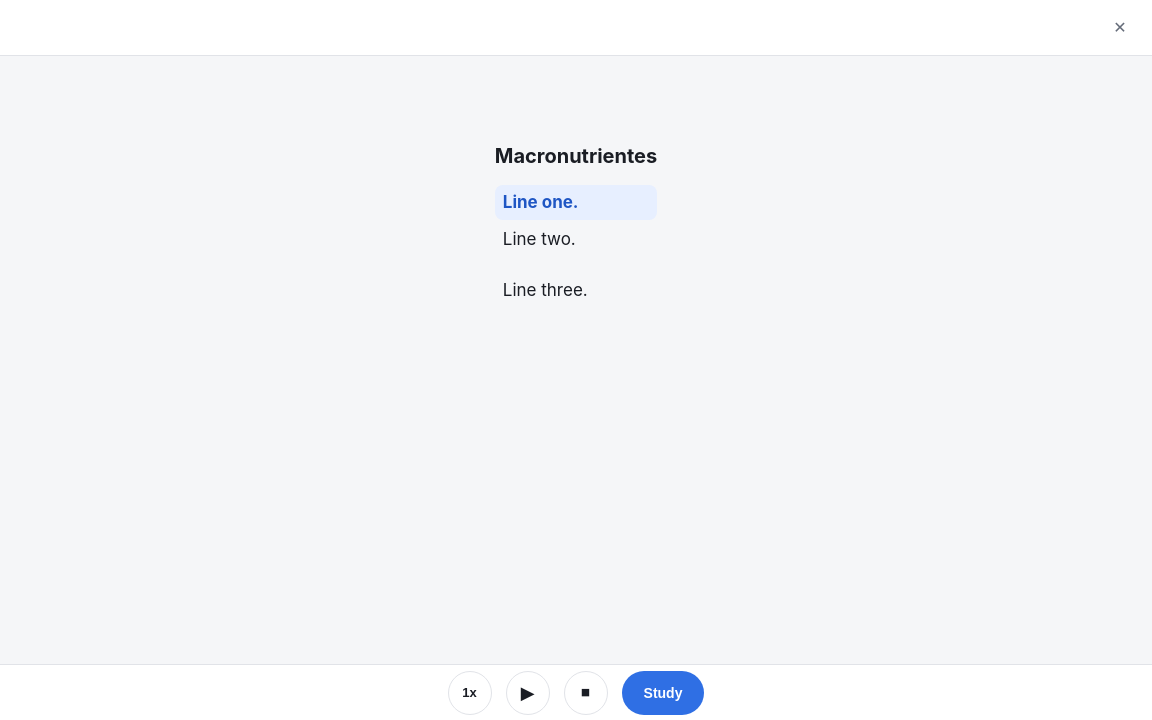
LearningTopicPage › Study opens the modal for the currently highlighted line and pauses playback
Click the button with class "reader-line" showing "Line two." at point(576, 240), box [495,222,657,257]
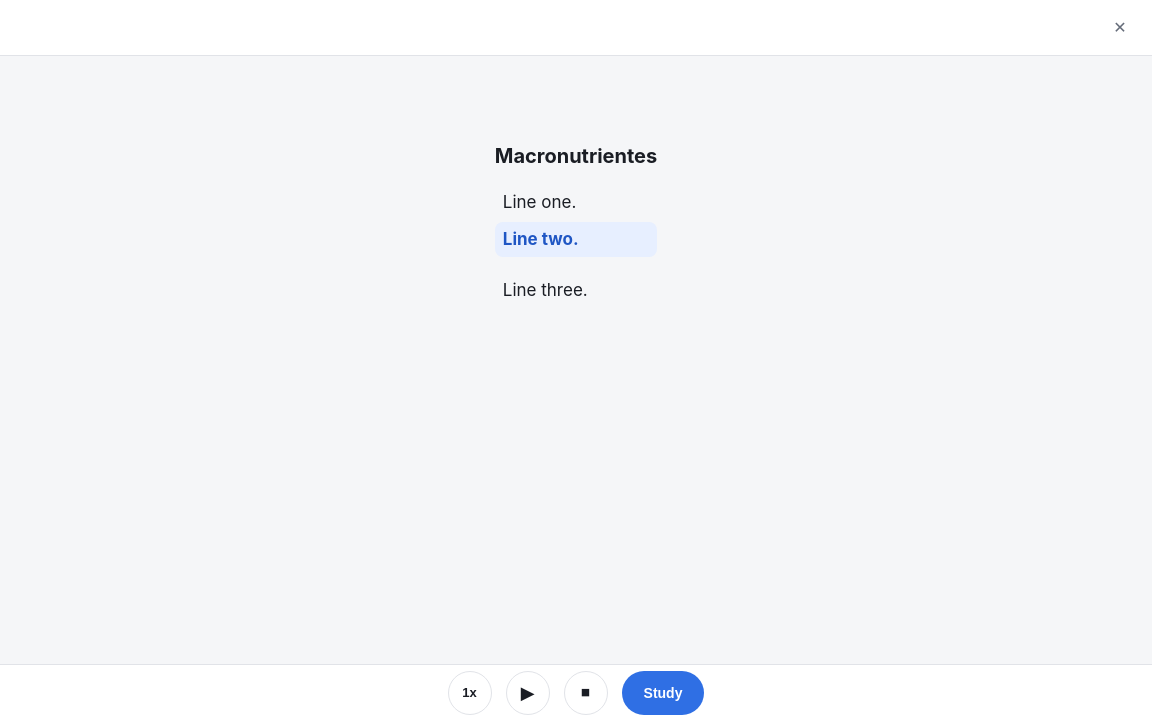
Click the button with class "reader-control-btn" showing "▶" at point(528, 692), box [506,670,550,714]
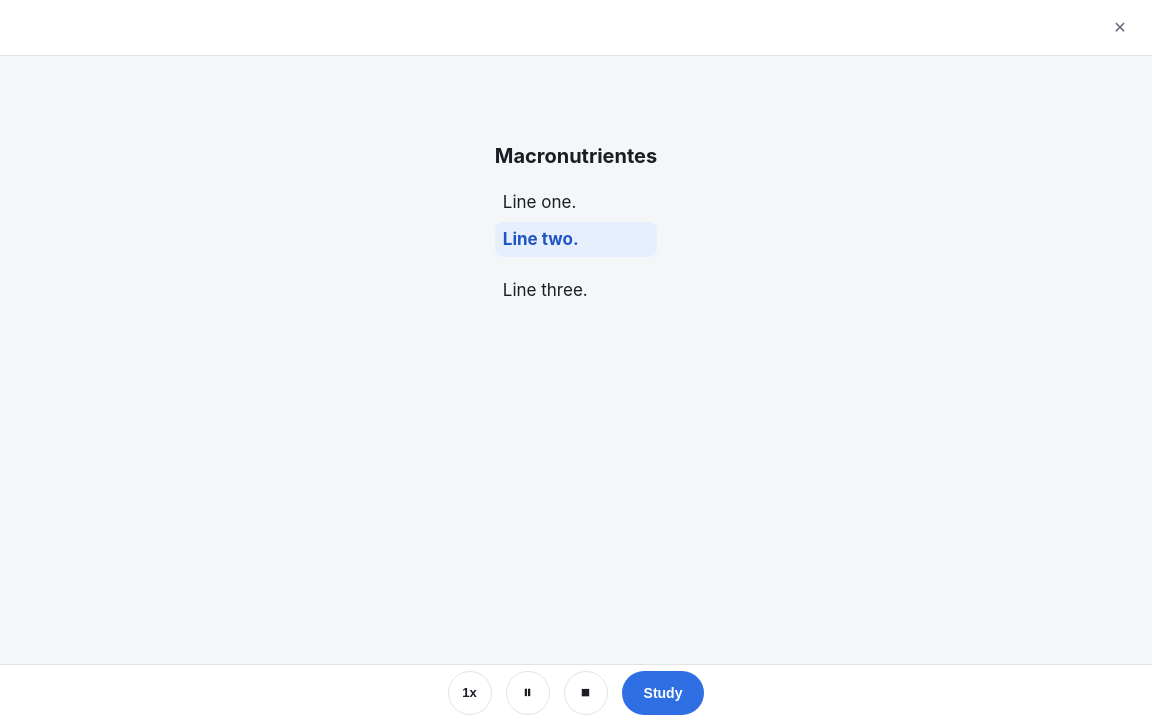
Click the button with class "reader-study-btn" at point(663, 692), box [622,670,704,714]
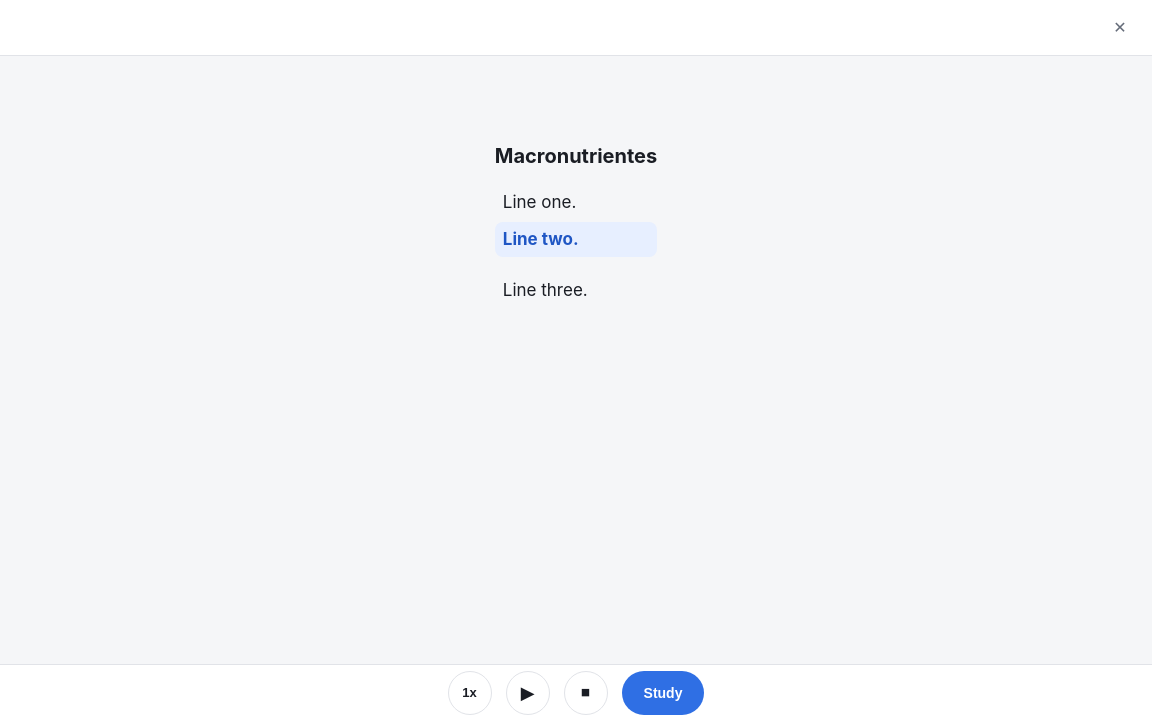
Result: the button with class "reader-control-btn" reads "▶" at [506,670,550,714]
